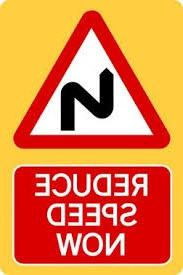double_bend_right: (11, 9, 171, 150)
